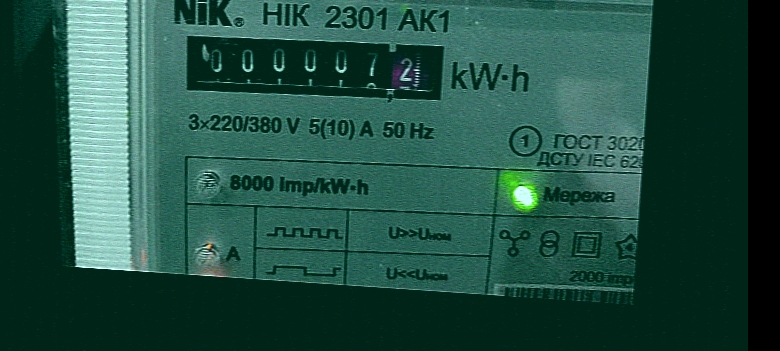0: (208, 43, 227, 71), (302, 44, 321, 72), (271, 43, 289, 72), (240, 44, 258, 72), (334, 45, 351, 74)
2: (399, 54, 416, 81)
7: (365, 46, 382, 77)
screen: (173, 20, 458, 111)
